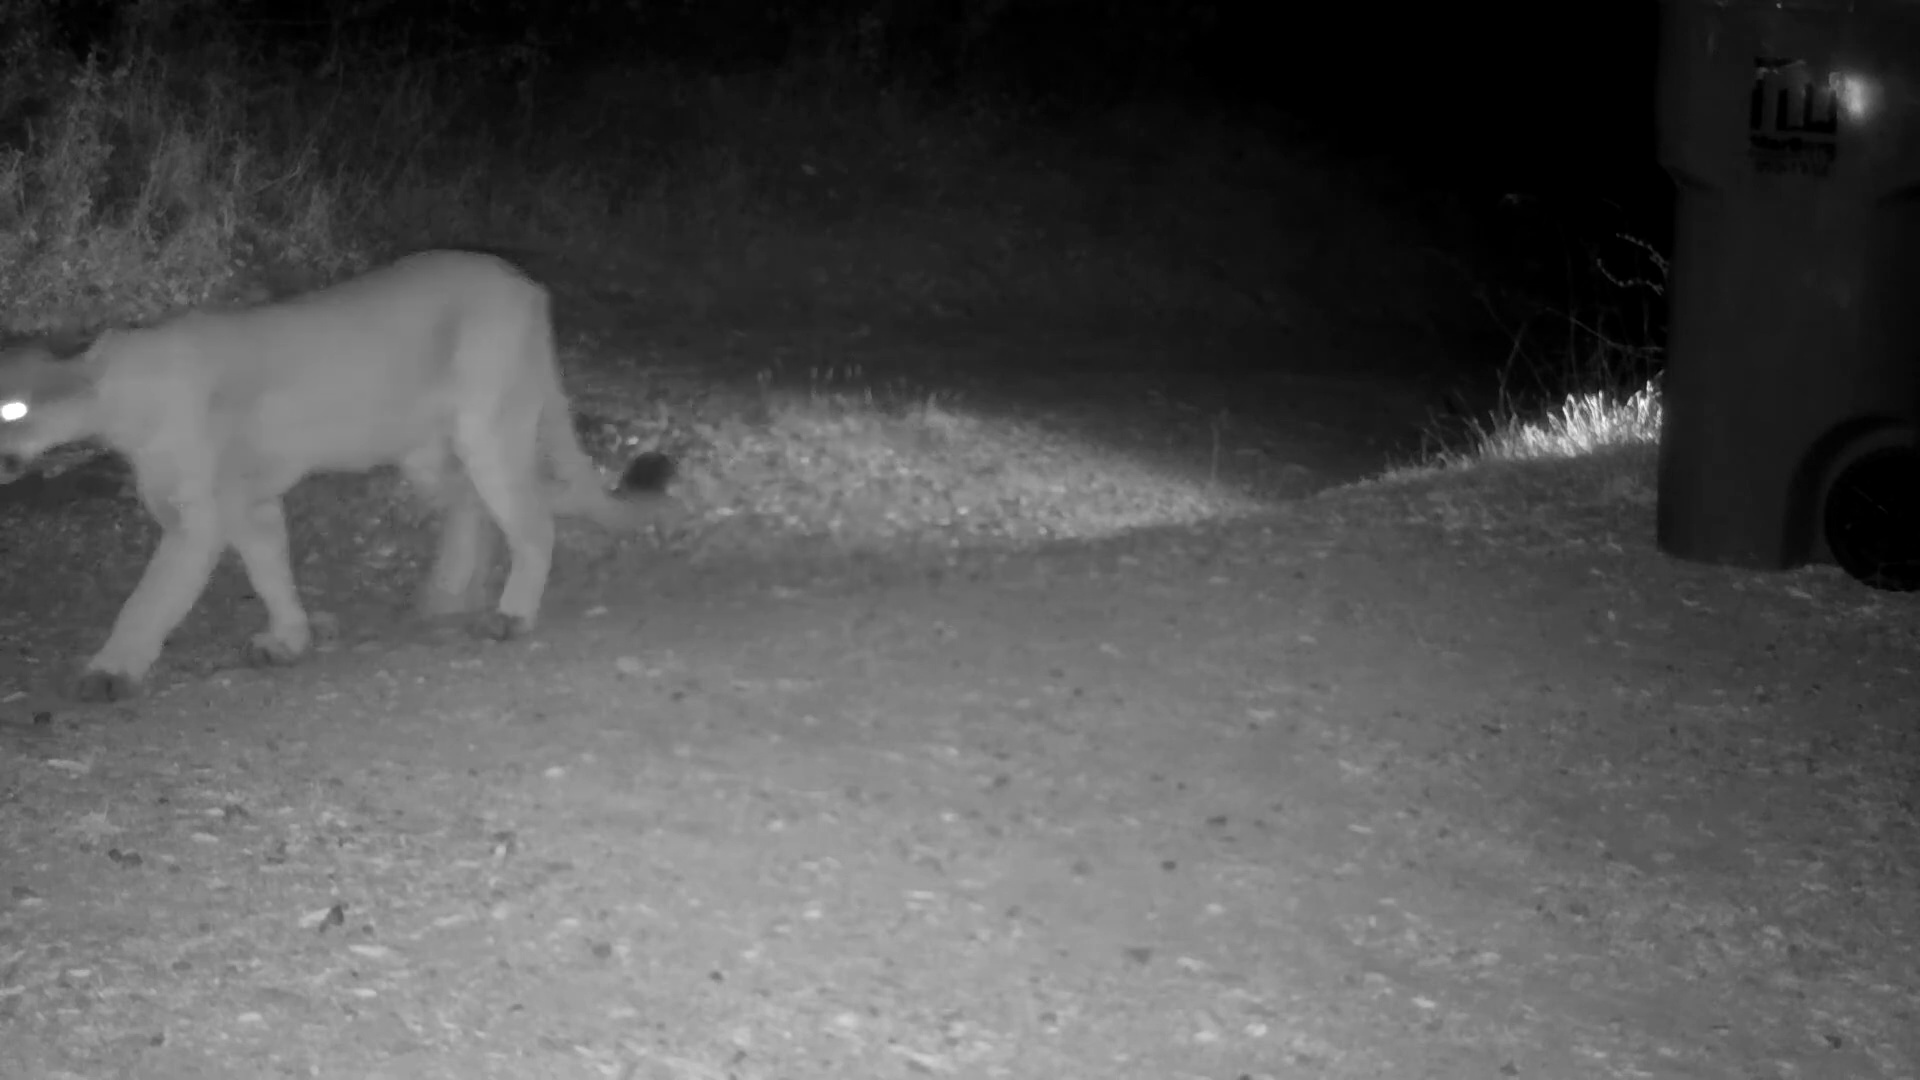Lion: (3, 245, 680, 702)
